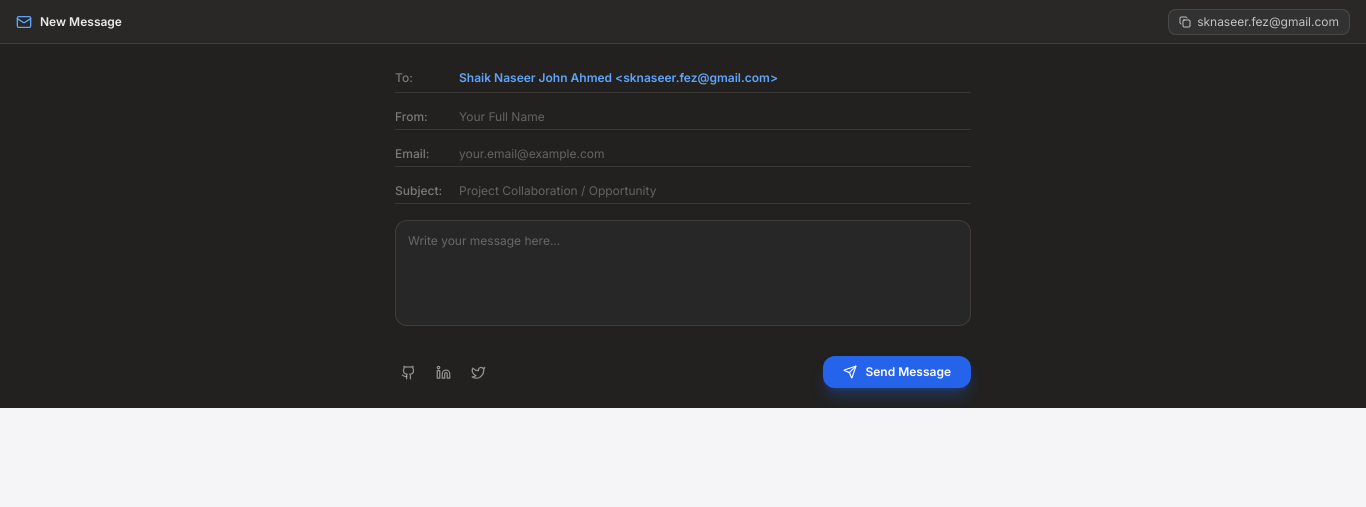
Applications Suite: 6 macOS Interactive Applications › MailApp › shows validation errors when submitted empty
The image size is (1366, 507).
Step 1. Click the button with test id "mail-send-button" → {"x": 897, "y": 372}, box [823, 356, 971, 388]
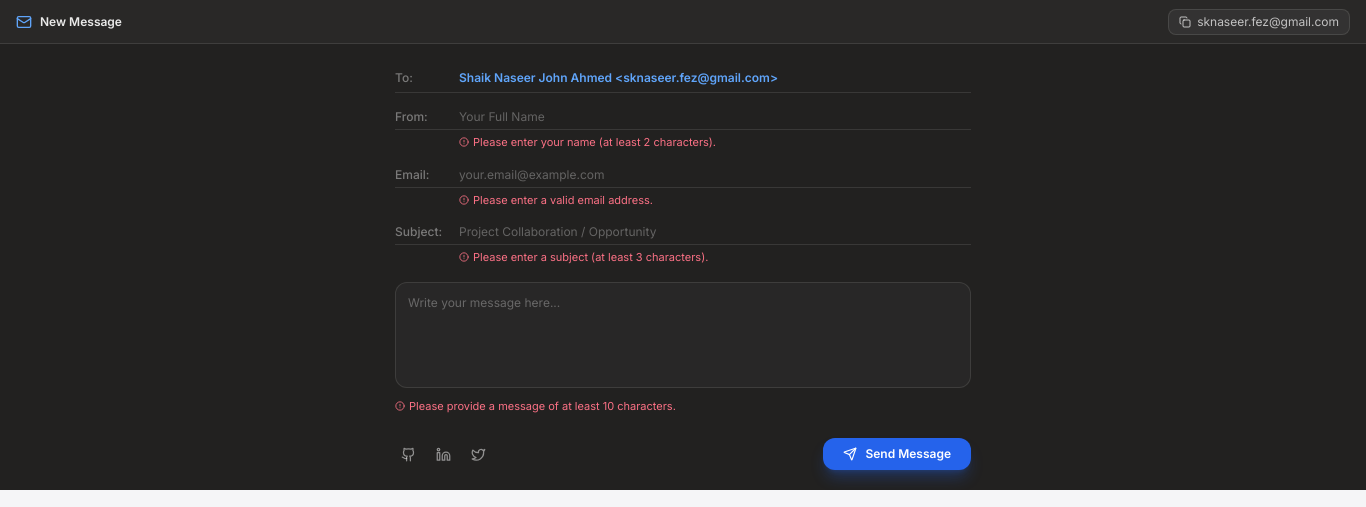
expect the text "Please enter your name (at least 2 characters)." is shown: met, box [473, 134, 716, 150]
expect the text "Please enter a valid email address." is shown: met, box [473, 192, 653, 208]
expect the text "Please enter a subject (at least 3 characters)." is shown: met, box [473, 249, 708, 266]
